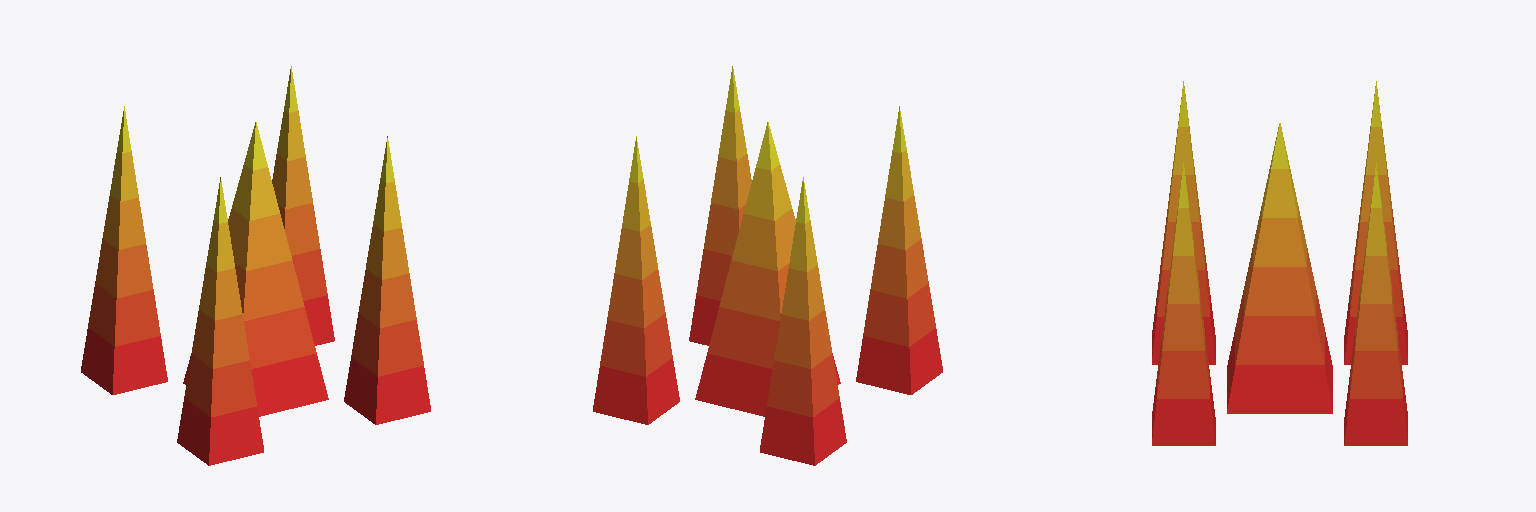
3 renders of one model, left to right at view 1: azimuth 30°, elevation 25°; view 2: azimuth 150°, elevation 25°; view 3: azimuth 270°, elevation 25°, orthographic.
Visible parts, largest first — view 1: Spike1.001, Spike1.005, Spike1.004, Spike1.006, Spike1; view 2: Spike1.001, Spike1.006, Spike1, Spike1.005, Spike1.004; view 3: Spike1.001, Spike1, Spike1.004, Spike1.005, Spike1.006.
Part boxes in pixels (left/top/right/bottom): Spike1.001: left=183, top=122, right=328, bottom=416; Spike1.005: left=177, top=177, right=263, bottom=465; Spike1.004: left=344, top=136, right=430, bottom=424; Spike1.006: left=81, top=106, right=167, bottom=394; Spike1: left=272, top=66, right=334, bottom=345; Spike1.001: left=695, top=122, right=840, bottom=416; Spike1.006: left=760, top=177, right=846, bottom=465; Spike1: left=593, top=136, right=679, bottom=424; Spike1.005: left=856, top=106, right=942, bottom=394; Spike1.004: left=689, top=66, right=751, bottom=345; Spike1.001: left=1227, top=123, right=1332, bottom=413; Spike1: left=1344, top=162, right=1407, bottom=445; Spike1.004: left=1152, top=162, right=1215, bottom=445; Spike1.005: left=1152, top=81, right=1215, bottom=364; Spike1.006: left=1344, top=81, right=1407, bottom=364.
Size of the model in its own units: 1.2 by 1.4 by 1.2.
Materials: 1 (1 with a texture image).